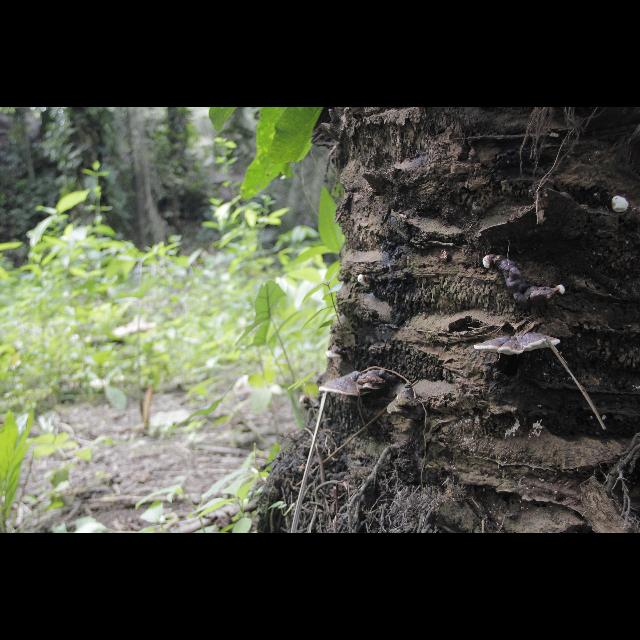ganoderma: (495, 255, 557, 309), (475, 332, 561, 356), (320, 372, 372, 397), (358, 370, 395, 391), (327, 349, 348, 360)
primordium: (612, 197, 630, 214), (358, 276, 372, 289), (484, 255, 494, 270), (301, 396, 314, 406), (558, 286, 567, 297)
